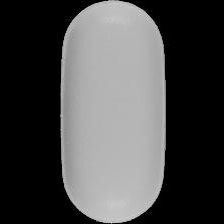42549-557: (0, 0, 224, 224)
